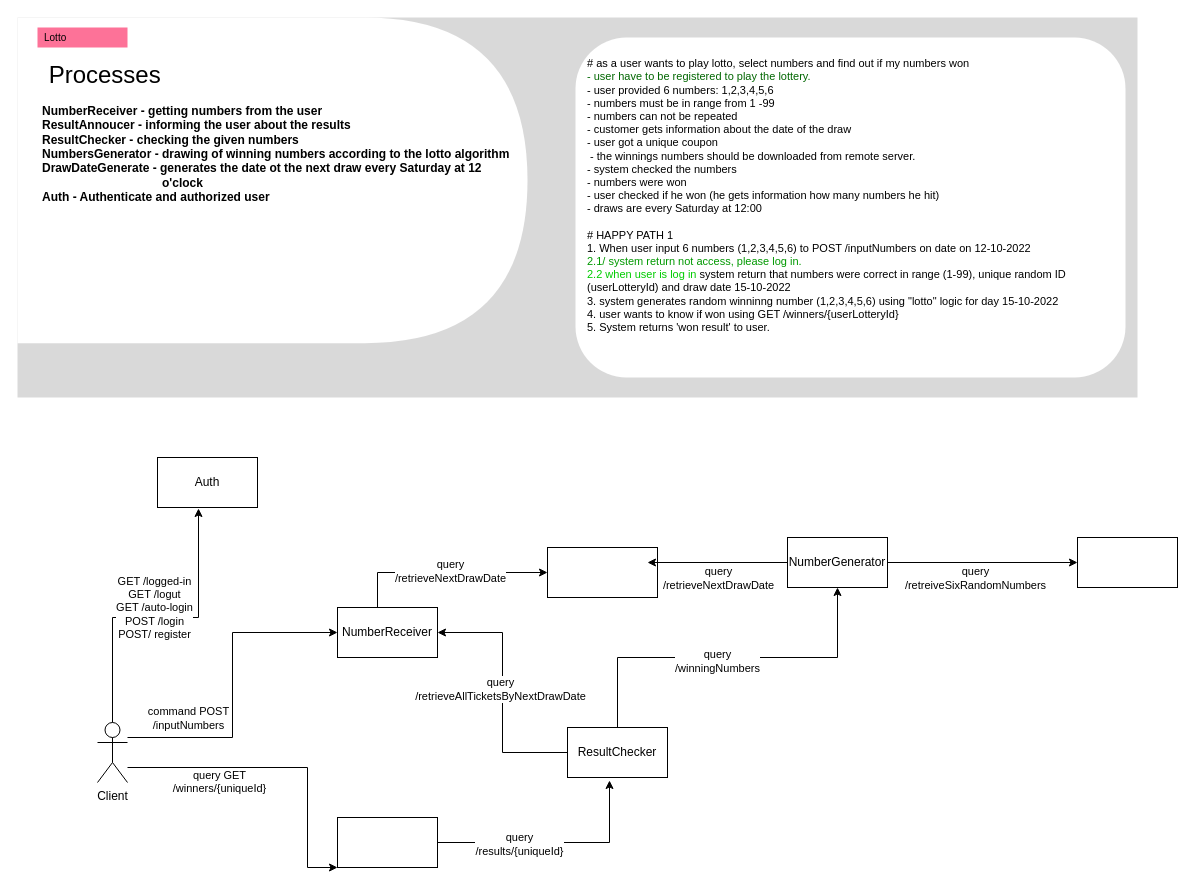
Some shapes in this 1195 by 893 pixel diagram are drawn without their labels. Each missing label, with the centre of its shape:
DrawDateGenerator: (x=602, y=572)
RemoteServerHttp RandomNumbers: (x=1127, y=562)
ResultAnnoucer: (x=387, y=842)
